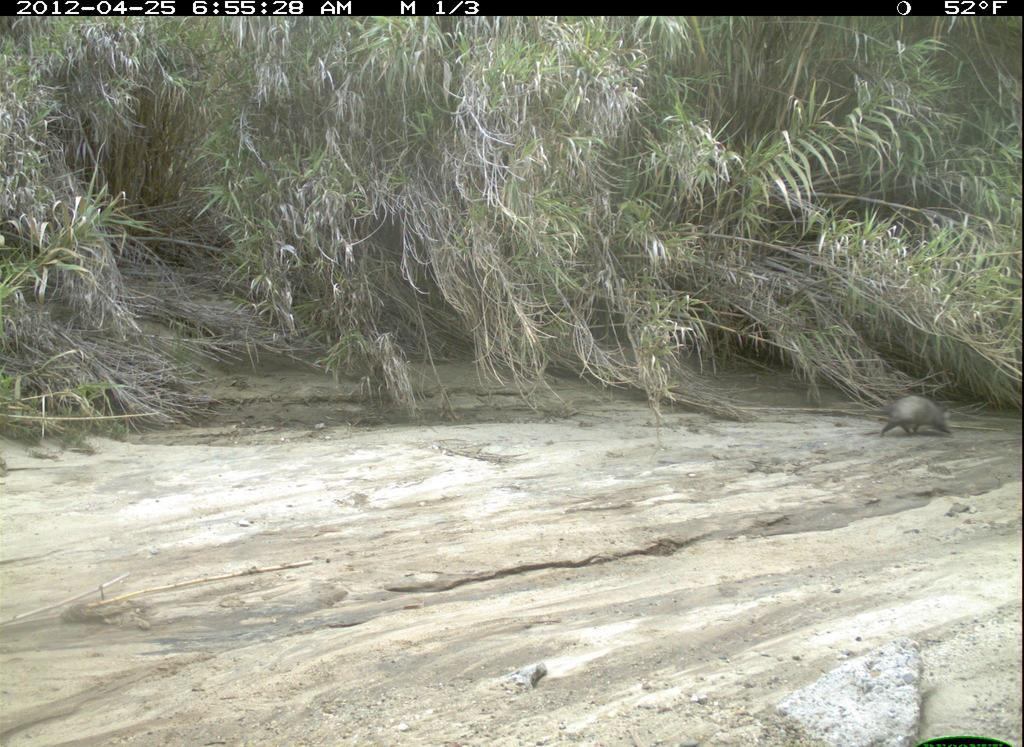opossum: (836, 393, 961, 449)
